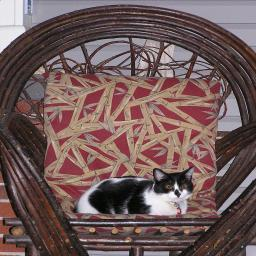catnose: (176, 192, 181, 197)
